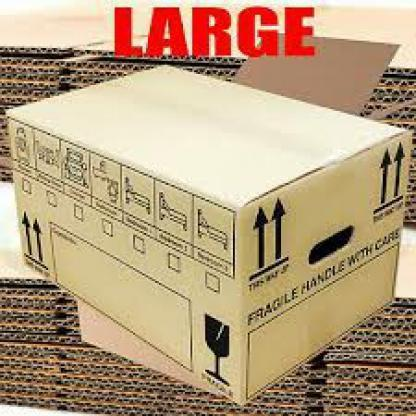box: (4, 59, 409, 405)
